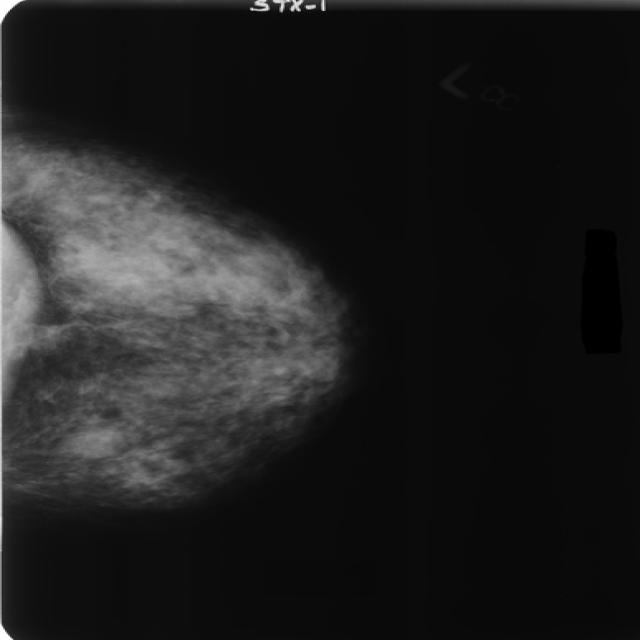tumour: (59, 425, 118, 457)
